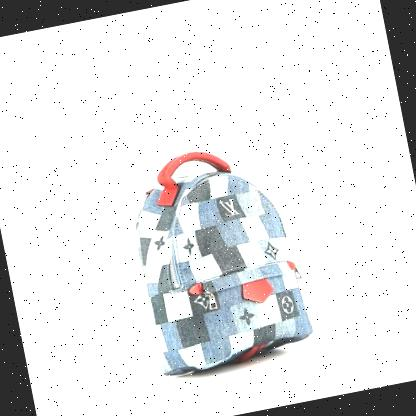bag: (108, 126, 325, 386)
